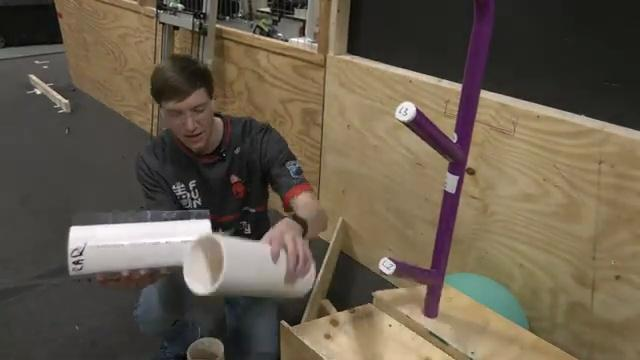CORAL: (68, 218, 214, 279), (183, 233, 316, 299)
